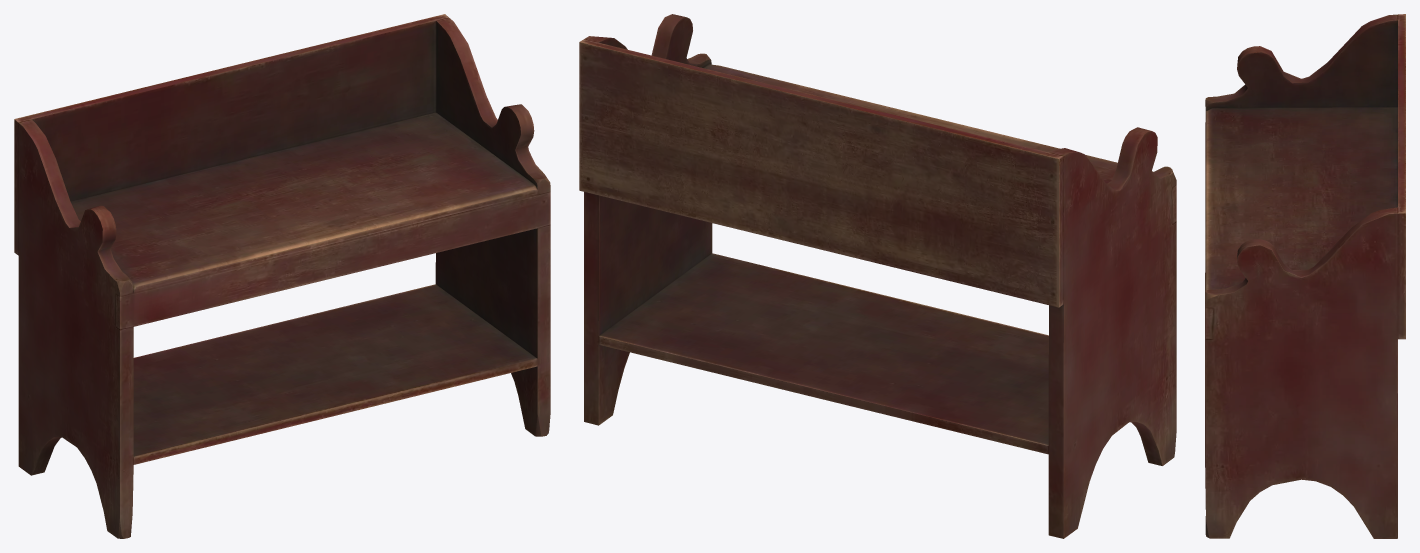
The model's file is painted_wooden_bench.glb.
3 renders of one model, left to right at view 1: azimuth 30°, elevation 25°; view 2: azimuth 150°, elevation 25°; view 3: azimuth 270°, elevation 25°, orthographic. The views are drawn at different scales.
Visible parts, largest first — view 1: painted_wooden_bench; view 2: painted_wooden_bench; view 3: painted_wooden_bench.
Part boxes in pixels (<box>): painted_wooden_bench: <box>14,14,550,538</box>; painted_wooden_bench: <box>579,14,1176,538</box>; painted_wooden_bench: <box>1205,14,1405,538</box>.
Size of the model in its own units: 1.16 by 0.8893 by 0.4965.
1 material, 1 textured.
